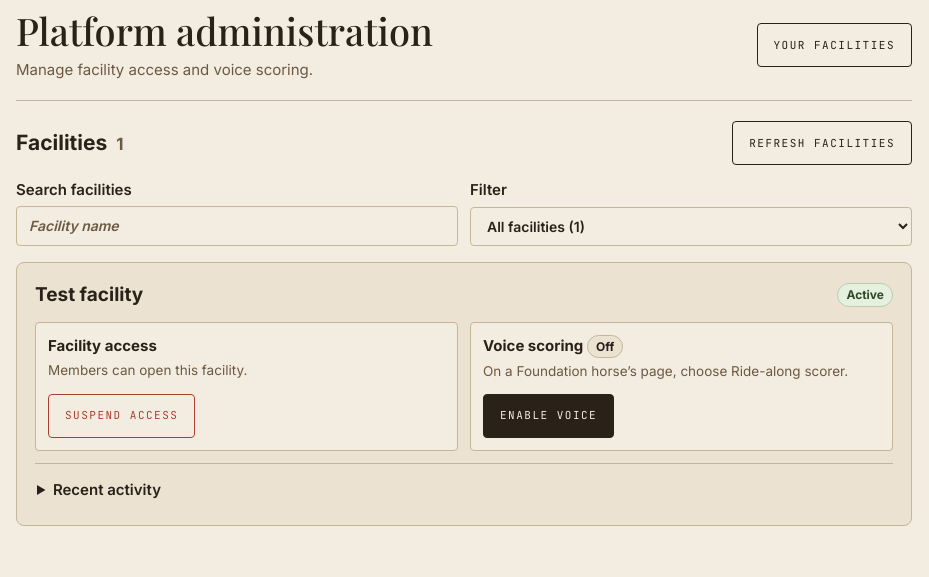
Test: changes voice directly and shows the saved facility state
What coordinates should you click on to do the following:
click the button "Enable voice"
I would click on:
 (549, 416)
Its box is [483,394,614,438].
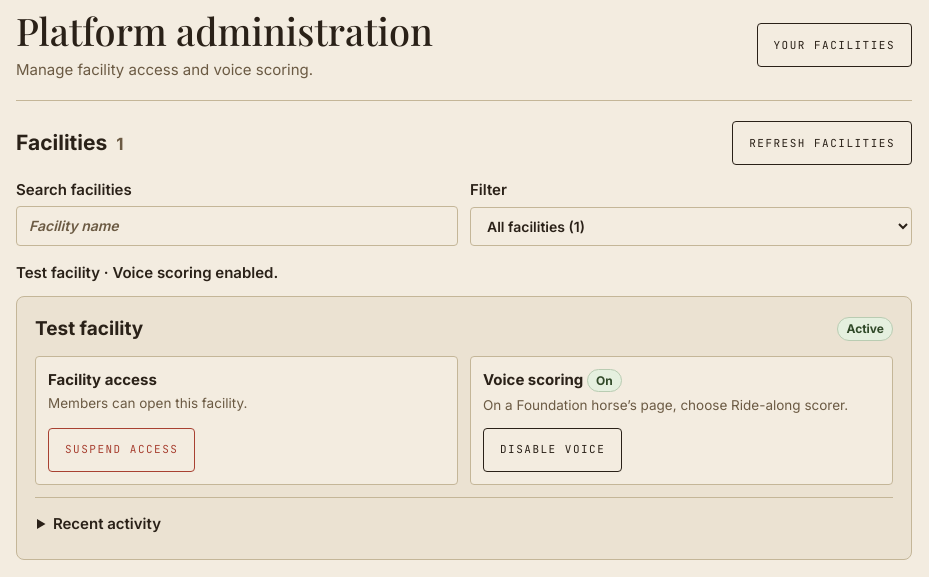
Expected: the button "Disable voice" is enabled, [483,428,622,472]
Now the text "Test facility · Voice scoring enabled." is shown, box [16,263,278,282]
